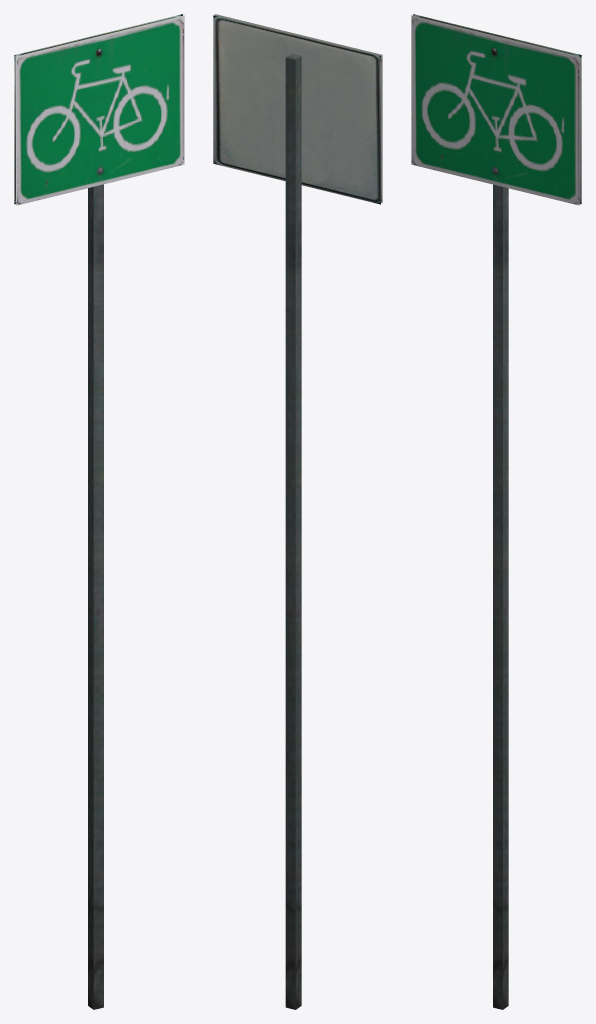
The model's file is bike.obj.
The picture shows the model from 3 angles, left to right: view 1: azimuth 30°, elevation 25°; view 2: azimuth 150°, elevation 25°; view 3: azimuth 330°, elevation 25°; orthographic projection.
Parts seen in each view (by area): view 1: handicawparking01; view 2: handicawparking01; view 3: handicawparking01.
Boxes of the visible parts, x1,y1,x2,y2 form: handicawparking01: (14,14,184,1009); handicawparking01: (213,14,382,1009); handicawparking01: (411,14,581,1009).
Bounding box in the file's own units: 0.3288 × 1.82 × 0.0262.
1 material, 1 textured.
